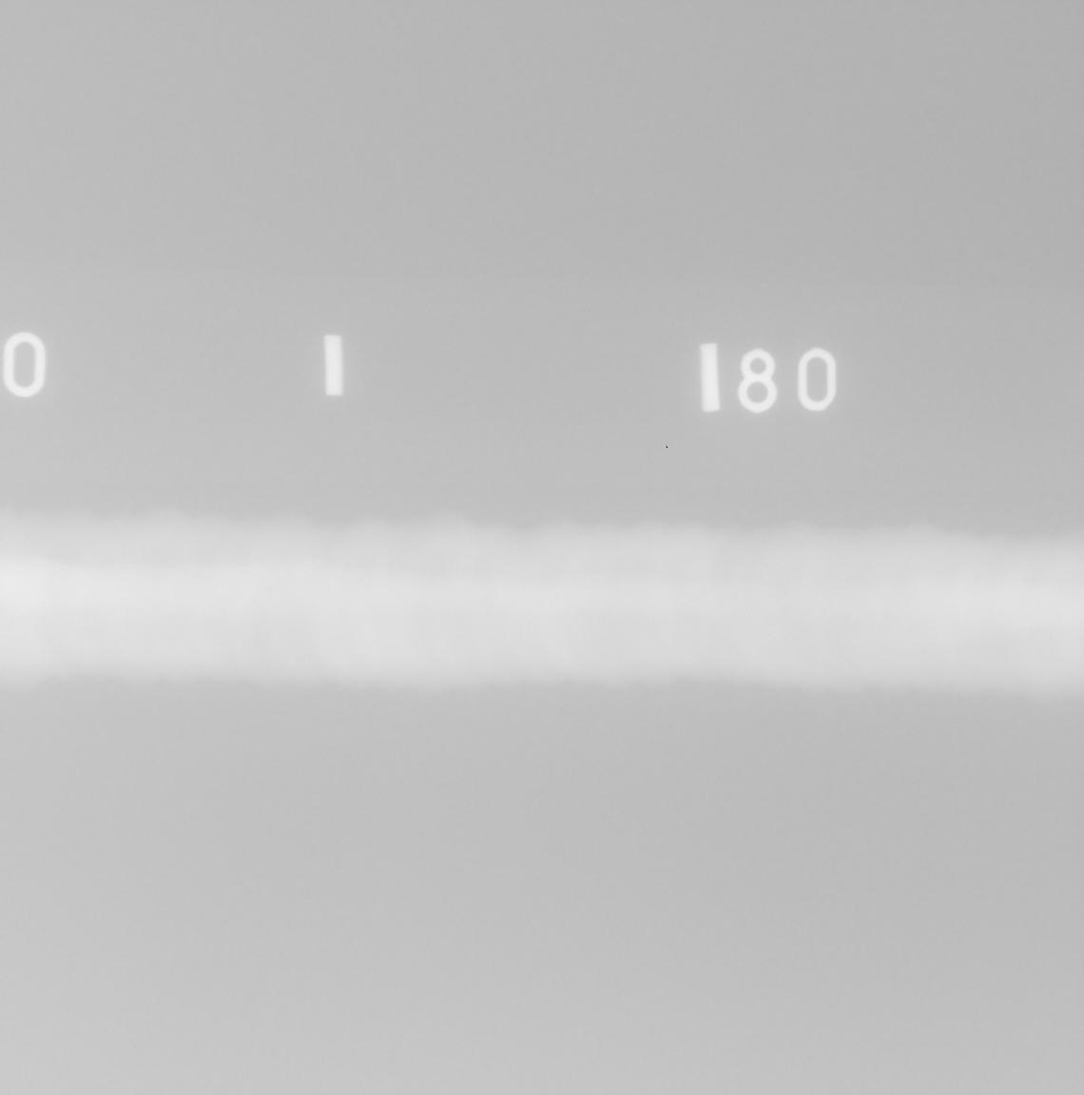Pore/Porosity: (263, 584, 277, 595)
